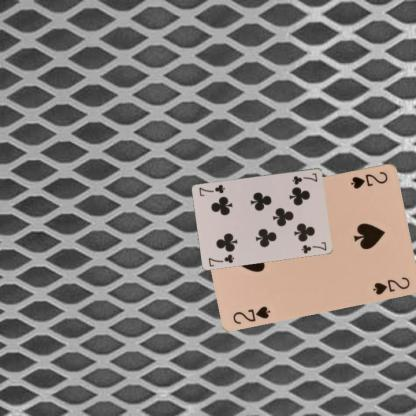2s: (230, 303, 272, 325), (348, 169, 389, 190)
7c: (206, 251, 236, 268), (290, 170, 318, 186)
